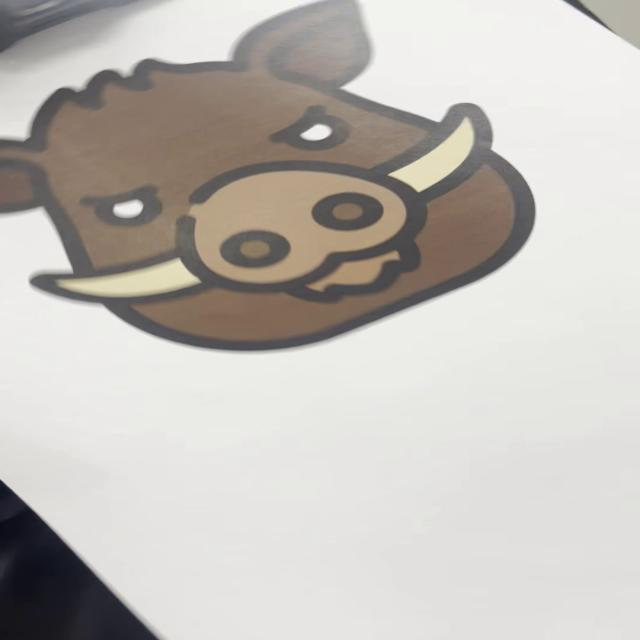animal: (4, 1, 551, 359)
